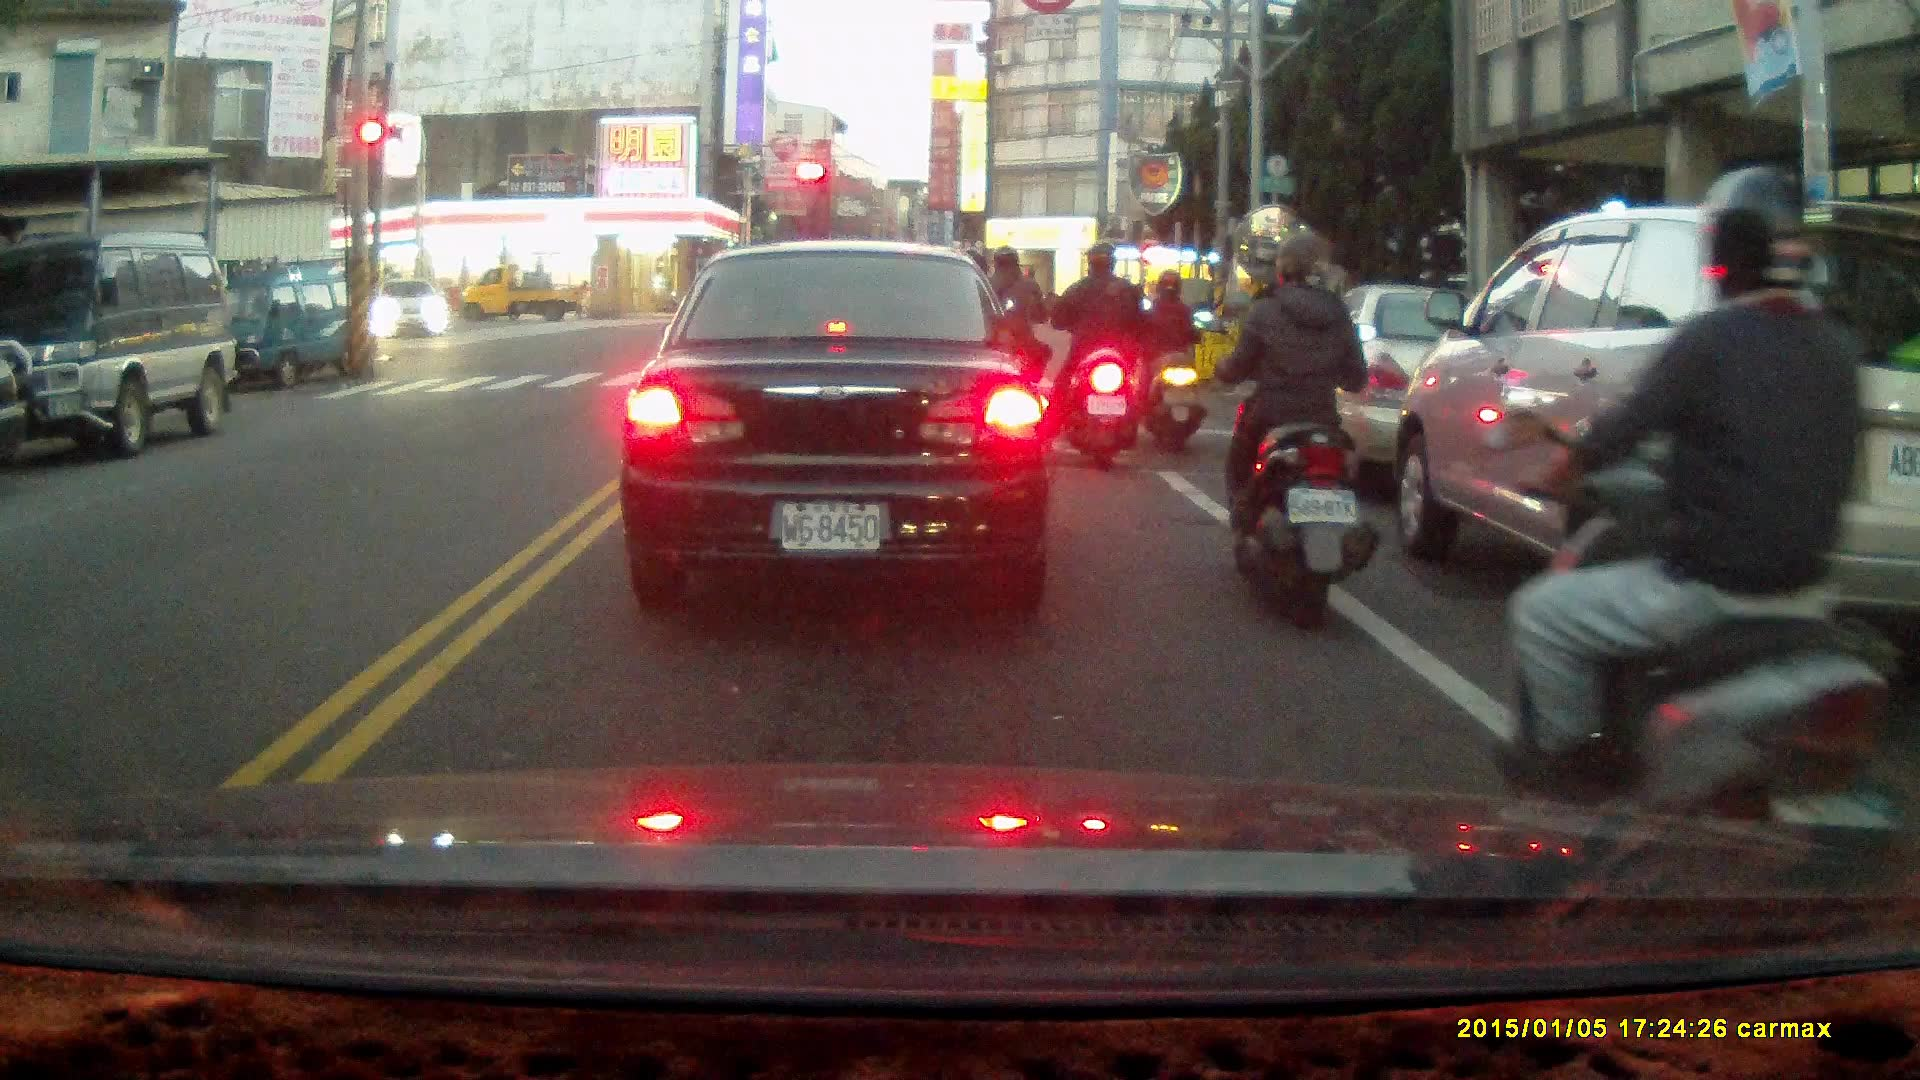rider: (1481, 156, 1903, 876), (1193, 225, 1380, 636), (1048, 243, 1141, 469), (962, 244, 1050, 447), (1134, 269, 1204, 450)
vehicle: (1381, 195, 1920, 685), (617, 243, 1061, 606), (1264, 282, 1576, 493), (1, 234, 239, 458), (194, 255, 381, 394), (453, 265, 586, 327), (372, 277, 451, 343)
